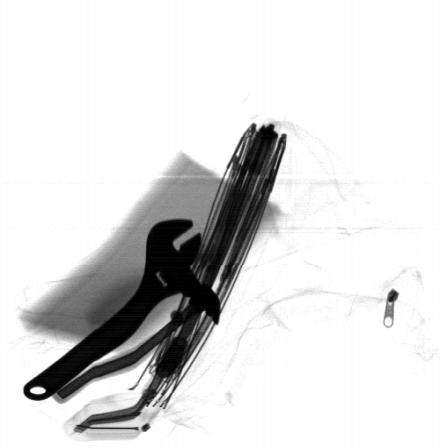Hammer: (49, 271, 221, 403)
Wrench: (23, 218, 202, 402)
